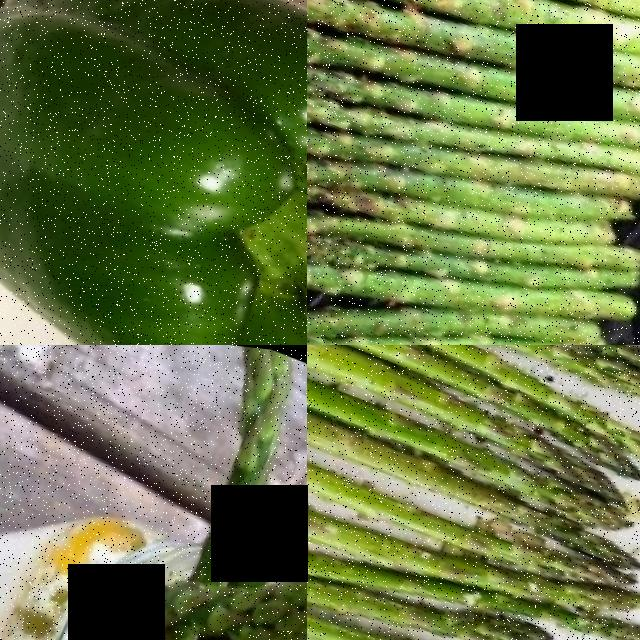asparagus: (307, 167, 618, 345), (307, 385, 584, 577), (307, 406, 558, 617), (307, 345, 640, 504), (307, 366, 603, 540), (307, 0, 623, 155), (307, 495, 580, 640), (307, 345, 640, 448), (307, 0, 640, 82), (307, 0, 513, 66), (325, 0, 640, 43), (239, 487, 307, 640), (307, 79, 349, 194)
bell pepper: (0, 0, 307, 345)
